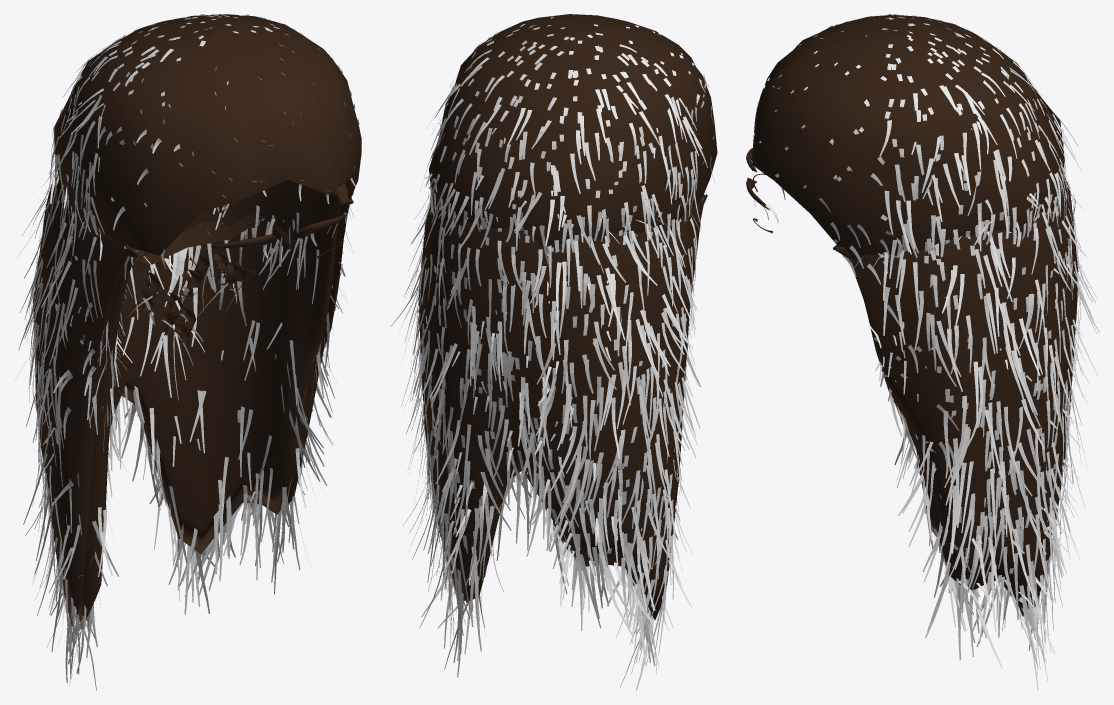
File: hair-berserker-long.glb
The picture shows the model from 3 angles, left to right: view 1: azimuth 30°, elevation 25°; view 2: azimuth 150°, elevation 25°; view 3: azimuth 270°, elevation 25°; orthographic projection. The views are drawn at different scales.
Visible parts, largest first — view 1: hair-berserker-long_1, hair__strands; view 2: hair-berserker-long_1, hair__strands; view 3: hair-berserker-long_1, hair__strands.
Boxes of the visible parts, bbox=[...] form: hair-berserker-long_1: bbox=[33, 14, 361, 627]; hair__strands: bbox=[18, 14, 361, 690]; hair-berserker-long_1: bbox=[418, 14, 717, 620]; hair__strands: bbox=[390, 14, 714, 690]; hair-berserker-long_1: bbox=[746, 14, 1078, 616]; hair__strands: bbox=[751, 14, 1099, 690].
Size of the model in its own units: 0.2735 by 0.5612 by 0.2838.
